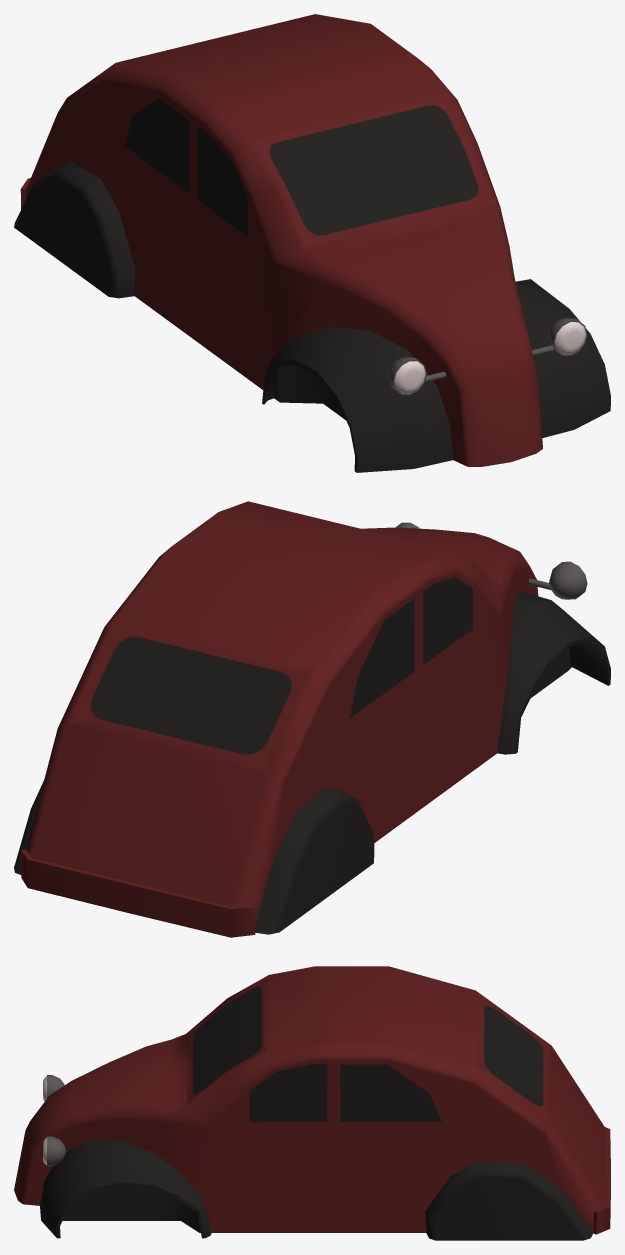
File: cardboard_car3_body.fbx
The picture shows the model from 3 angles, top to bottom: view 1: azimuth 30°, elevation 25°; view 2: azimuth 150°, elevation 25°; view 3: azimuth 270°, elevation 25°; orthographic projection. The views are drawn at different scales.
Visible parts, largest first — view 1: cardboard_car3_body; view 2: cardboard_car3_body; view 3: cardboard_car3_body.
Boxes of the visible parts, box(x1,y1,x2,y2) form: cardboard_car3_body: box(14, 14, 610, 472); cardboard_car3_body: box(14, 501, 610, 937); cardboard_car3_body: box(14, 966, 610, 1240).
Bounding box in the file's own units: 123 × 106 × 308.
